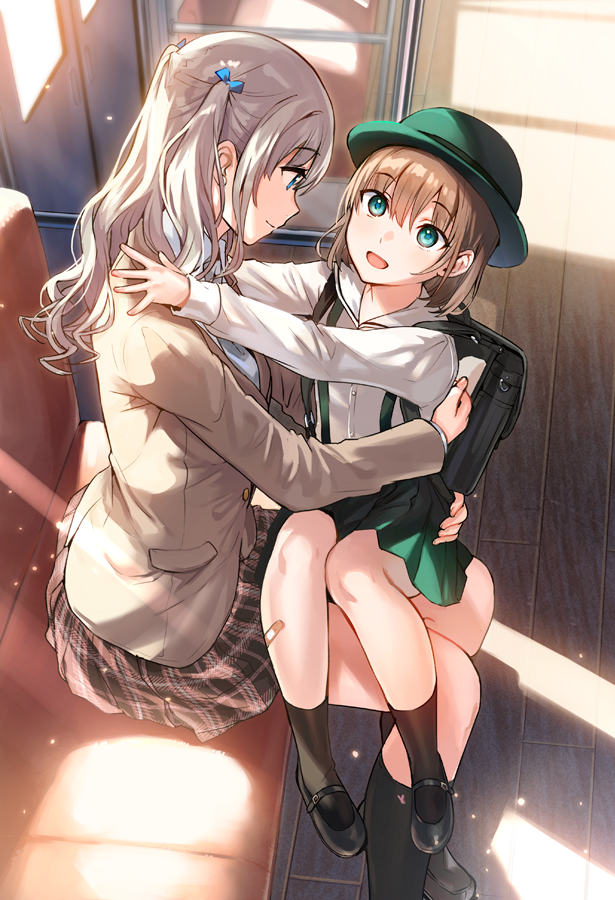纸片人正脸: (132, 36, 345, 261), (331, 113, 522, 308)
